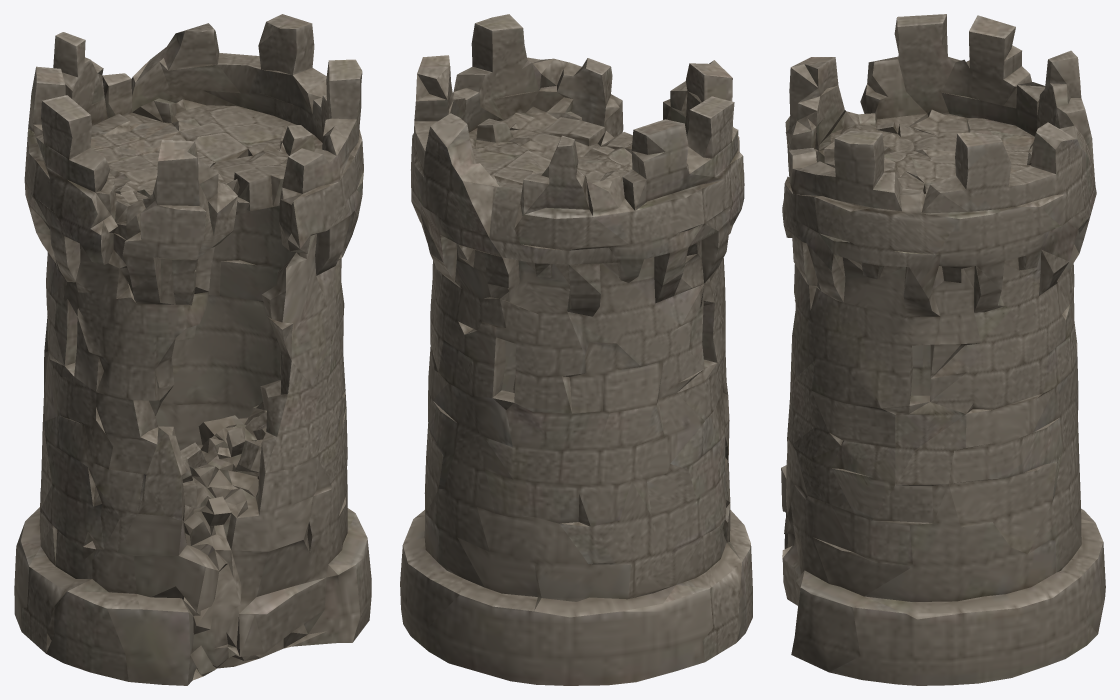
File: inner_wall_tower_destroyed.glb
3 views of the same model, side by side, from view 1: azimuth 30°, elevation 25°; view 2: azimuth 150°, elevation 25°; view 3: azimuth 270°, elevation 25° (orthographic).
Visible parts, largest first — view 1: output_unwrapped; view 2: output_unwrapped; view 3: output_unwrapped.
Boxes of the visible parts, <box> form: output_unwrapped: <box>14,14,371,685</box>; output_unwrapped: <box>400,14,752,685</box>; output_unwrapped: <box>781,14,1105,685</box>.
Bounding box in the file's own units: 1.13 × 1.9 × 1.05.
Materials: 1 (1 with a texture image).
